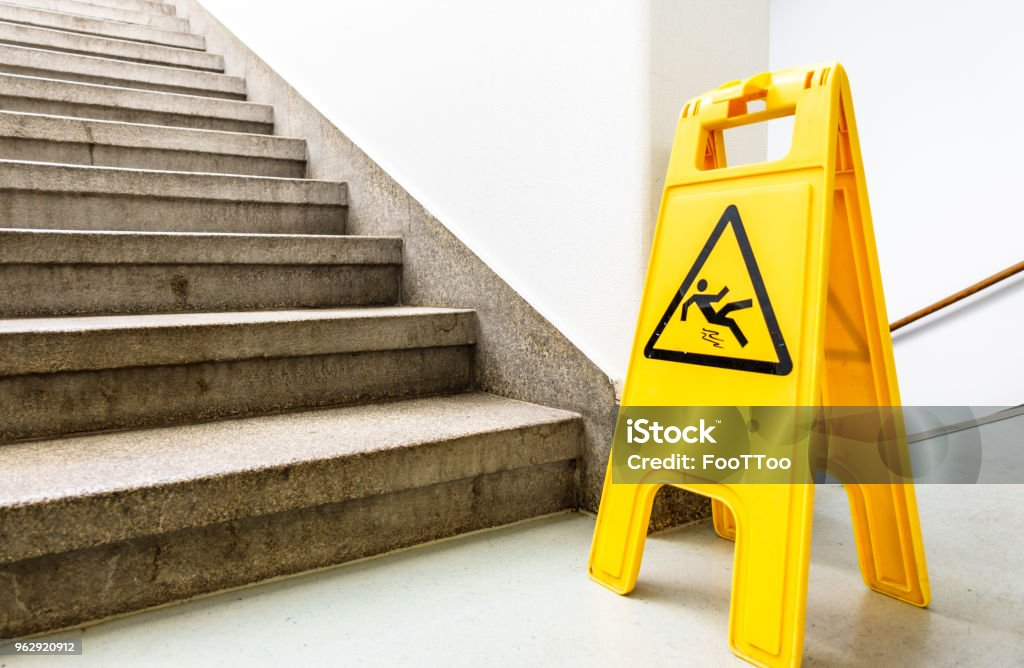wet caution sign: (581, 36, 923, 668)
